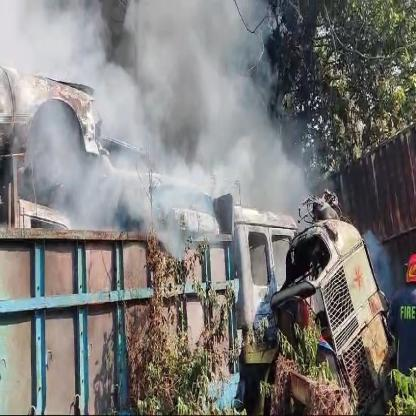Smoke: (0, 0, 341, 262)
